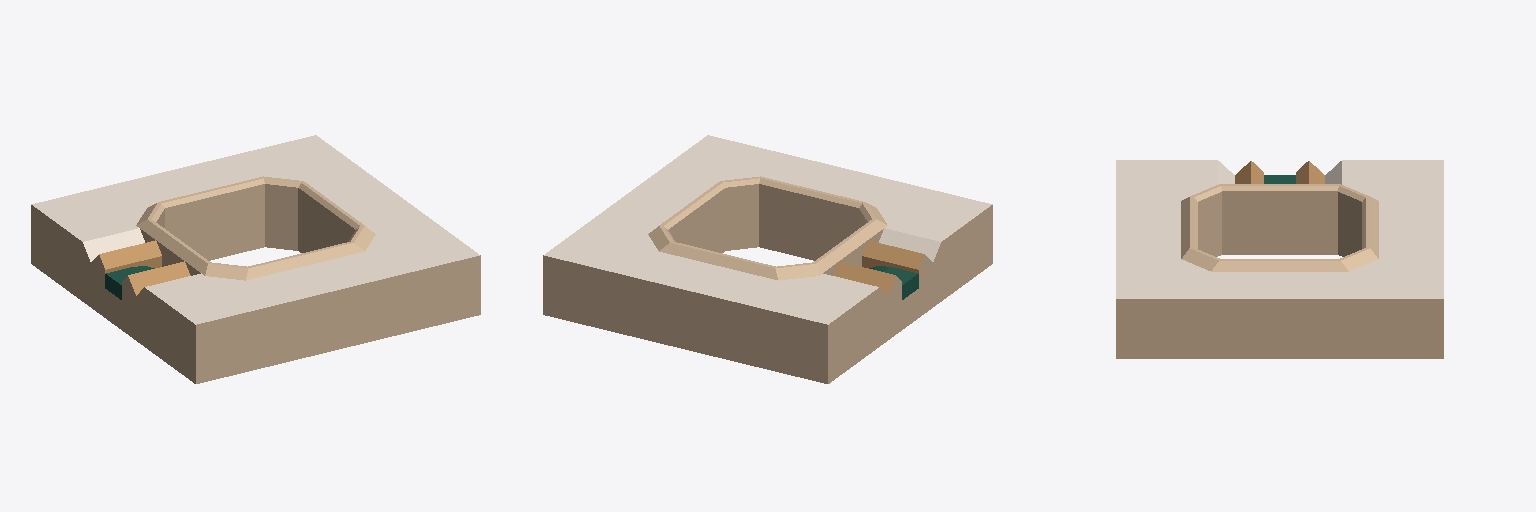
The model's file is Puzzle_Floor_Conduit_Control_Housing_End.obj.
3 renders of one model, left to right at view 1: azimuth 30°, elevation 25°; view 2: azimuth 150°, elevation 25°; view 3: azimuth 270°, elevation 25°, orthographic.
Visible parts, largest first — view 1: object2, object1; view 2: object2, object1; view 3: object2.
Part boxes in pixels (bbox=[...]): object2: bbox=[31, 135, 480, 383]; object1: bbox=[105, 266, 154, 299]; object2: bbox=[543, 135, 992, 383]; object1: bbox=[869, 266, 918, 299]; object2: bbox=[1116, 160, 1443, 358].
Bounding box in the file's own units: 1 × 0.225 × 1.